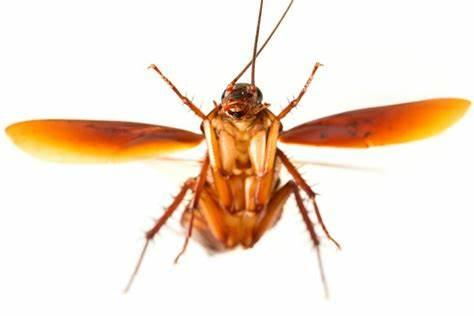cockroach: (157, 60, 318, 270)
